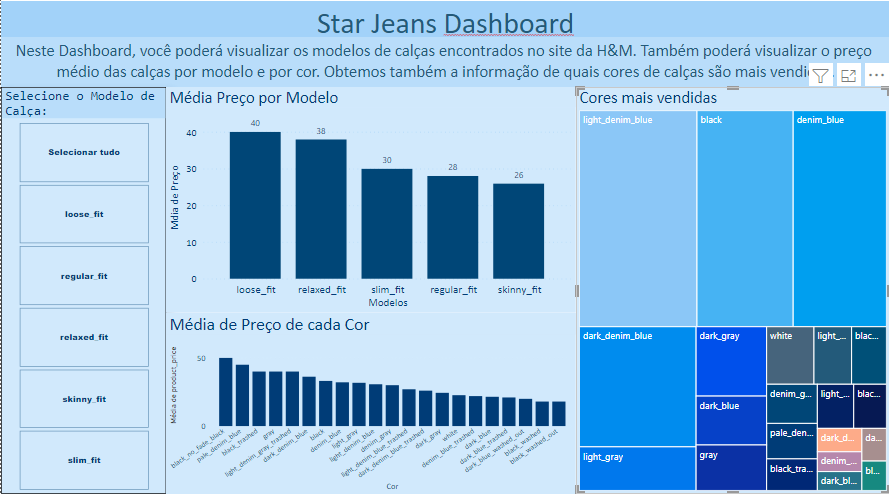

The dashboard page shown, as its layout file describes it:
{"tool":"powerbi","page":{"name":"Página 1","canvas":[1280,720],"ordinal":0},"visuals":[{"type":"textbox","box":[0,0,1280.2,61.9],"z":0},{"type":"textbox","box":[0,10,1280.2,61.9],"z":1},{"type":"textbox","box":[0,61.9,1280.2,72],"z":2},{"type":"slicer","title":"Selecione o Modelo de Calça:","fields":{"Values":["vitrine.fit"]},"box":[0,133.9,237.6,586.1],"z":3},{"type":"clusteredColumnChart","title":"Média Preço por Modelo","fields":{"Category":["vitrine.fit"],"Y":["Avg(vitrine.product_price)"]},"box":[237.6,133.9,590.4,325.4],"z":4},{"type":"clusteredColumnChart","title":"Média de Preço de cada Cor","fields":{"Y":["Avg(vitrine.product_price)"],"Category":["vitrine.color_name"]},"box":[237.6,459.4,590.4,260.6],"z":5},{"type":"treemap","title":"Cores mais vendidas","fields":{"Group":["vitrine.color_name"],"Values":["Sum(vitrine.product_price)"]},"box":[828,133.9,452.2,586.1],"z":6}]}

Visuals, with their boxes on the page's 1280x720 design canvas (x1, y1, x2, y2). These are canvas units, not pixel positions in the 889x494 screenshot, which may show the page scaled, cropped or inside an application window:
textbox: select_region(0, 0, 1280, 62)
textbox: select_region(0, 10, 1280, 72)
textbox: select_region(0, 62, 1280, 134)
"Selecione o Modelo de Calça:" slicer: select_region(0, 134, 238, 720)
"Média Preço por Modelo" clusteredColumnChart: select_region(238, 134, 828, 459)
"Média de Preço de cada Cor" clusteredColumnChart: select_region(238, 459, 828, 720)
"Cores mais vendidas" treemap: select_region(828, 134, 1280, 720)
